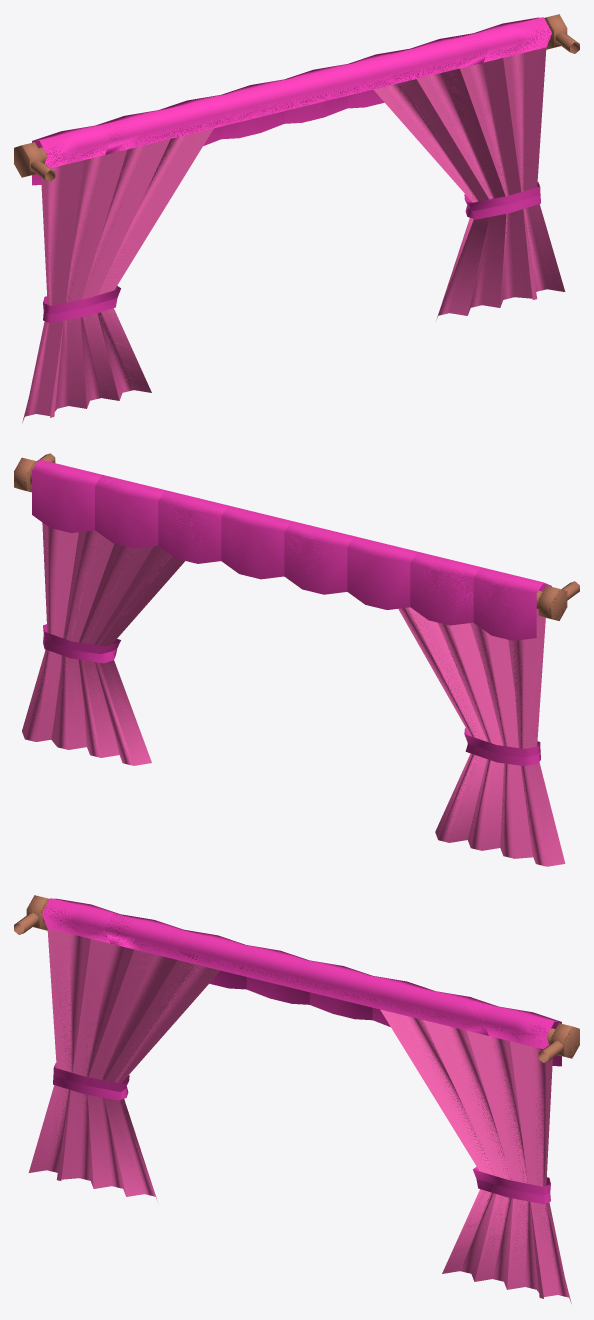
The model's file is CurtainA2_geo.fbx.
3 renders of one model, top to bottom at view 1: azimuth 30°, elevation 25°; view 2: azimuth 150°, elevation 25°; view 3: azimuth 330°, elevation 25°, orthographic.
Visible parts, largest first — view 1: CurtainA2_geo; view 2: CurtainA2_geo; view 3: CurtainA2_geo.
Boxes of the visible parts, x1,y1,x2,y2 form: CurtainA2_geo: [14, 14, 579, 422]; CurtainA2_geo: [14, 453, 579, 866]; CurtainA2_geo: [14, 895, 579, 1303].
Size of the model in its own units: 3.35 by 0.3313 by 1.64.
